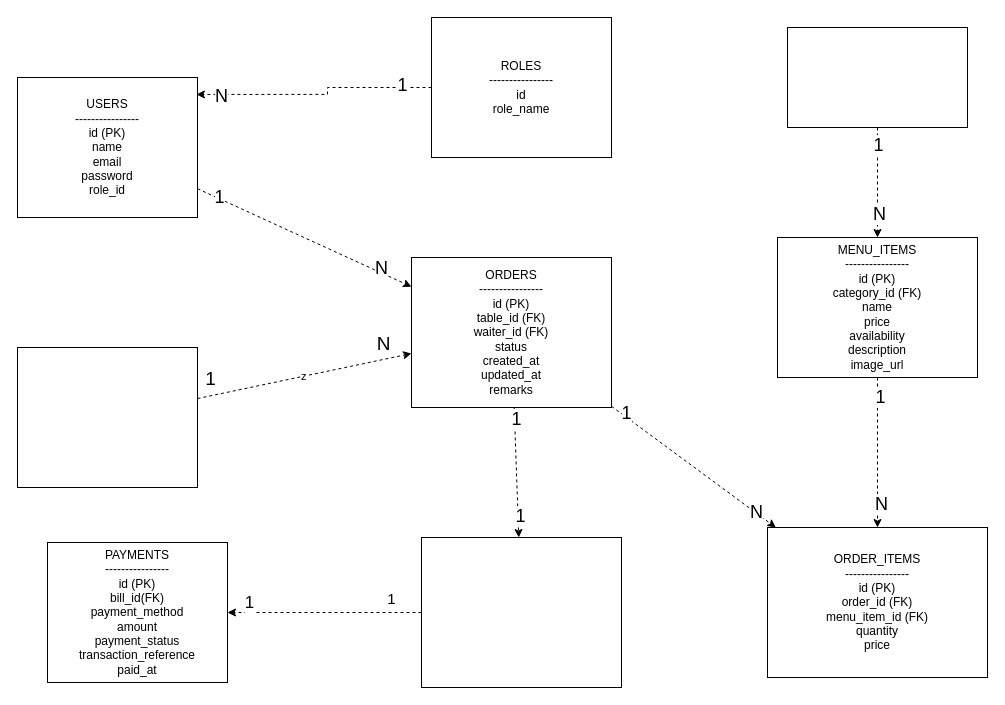
Some shapes in this 1005 by 705 pixel diagram are drawn without their labels. The shapes that lost their labels are listed below. From the top down, each one's centre as x and y in pixels, then its label:
At (877,77): "MENU_CATEGORIES ---------------- id (PK) name".
At (107,417): "RESTAURANT_TABLES ---------------- id (PK) table_number capacity status".
At (521,612): "BILLS ---------------- id (PK) order_id (FK) subtotal tax discount total".
